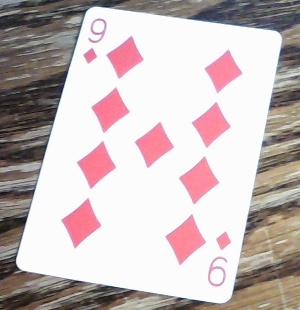card: (17, 5, 282, 305)
